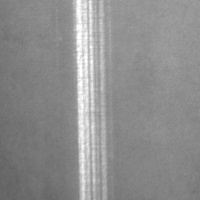scratches: (73, 1, 114, 200)
